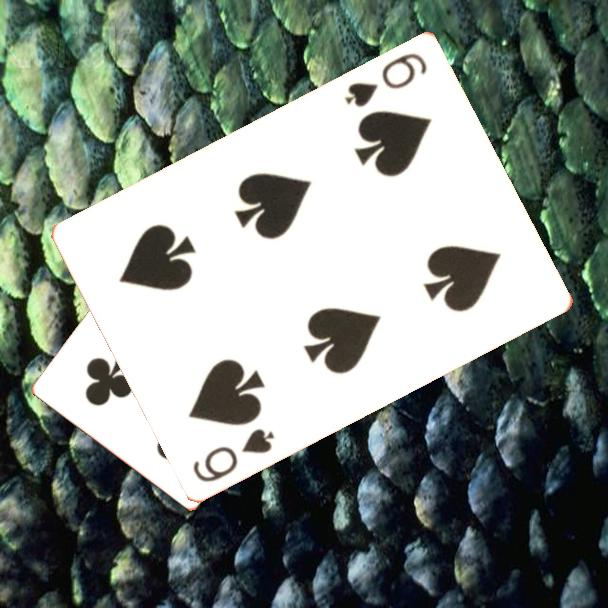s06: (340, 48, 430, 110), (189, 424, 278, 485)
